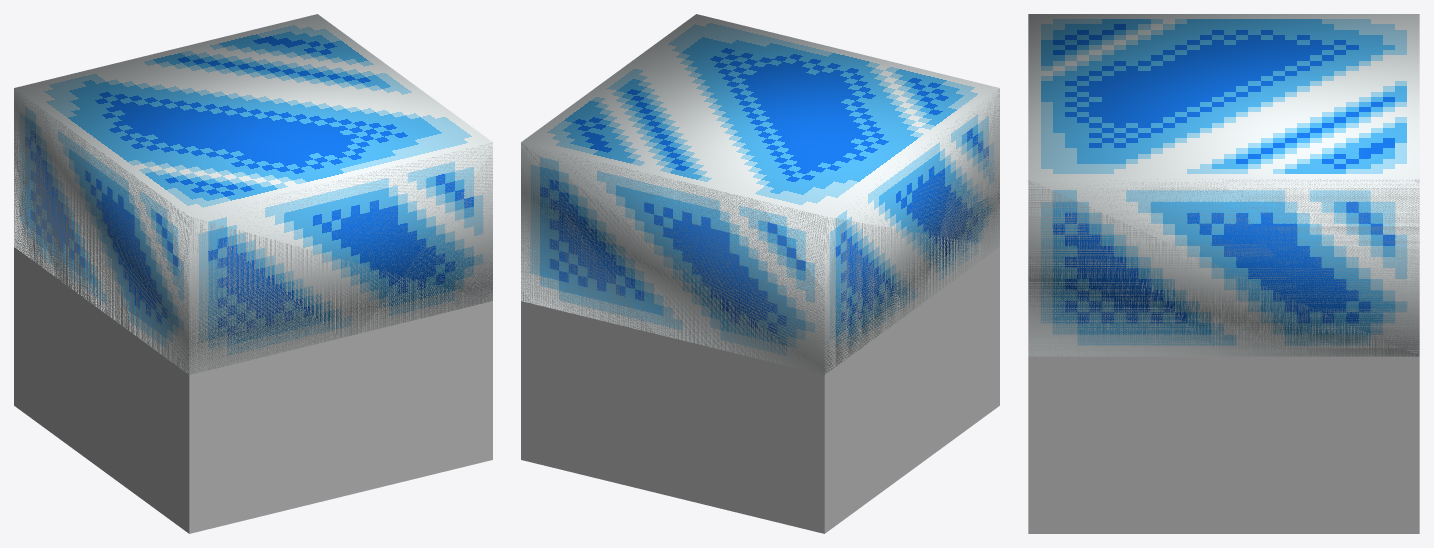
The model's file is IceTile.obj.
3 renders of one model, left to right at view 1: azimuth 30°, elevation 25°; view 2: azimuth 150°, elevation 25°; view 3: azimuth 270°, elevation 25°, orthographic. The views are drawn at different scales.
Parts seen in each view (by area): view 1: IceTile; view 2: IceTile; view 3: IceTile.
Part boxes in pixels (bbox=[...]): IceTile: bbox=[14, 14, 492, 533]; IceTile: bbox=[521, 14, 999, 533]; IceTile: bbox=[1028, 14, 1419, 533].
Size of the model in its own units: 1 by 1 by 1.
